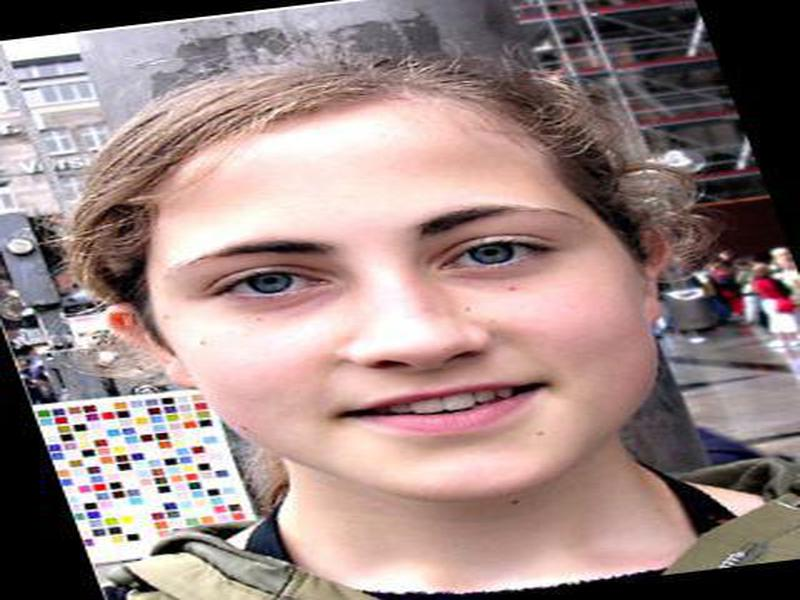without_mask: (127, 106, 665, 495)
